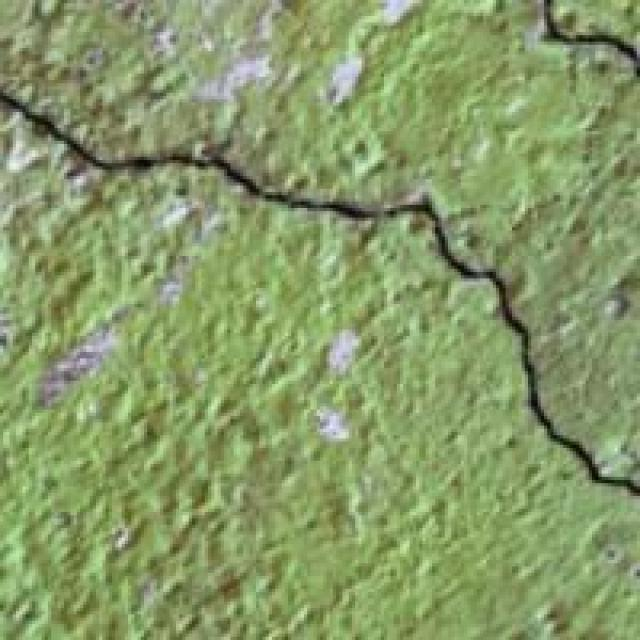Crack: (0, 0, 637, 506)
